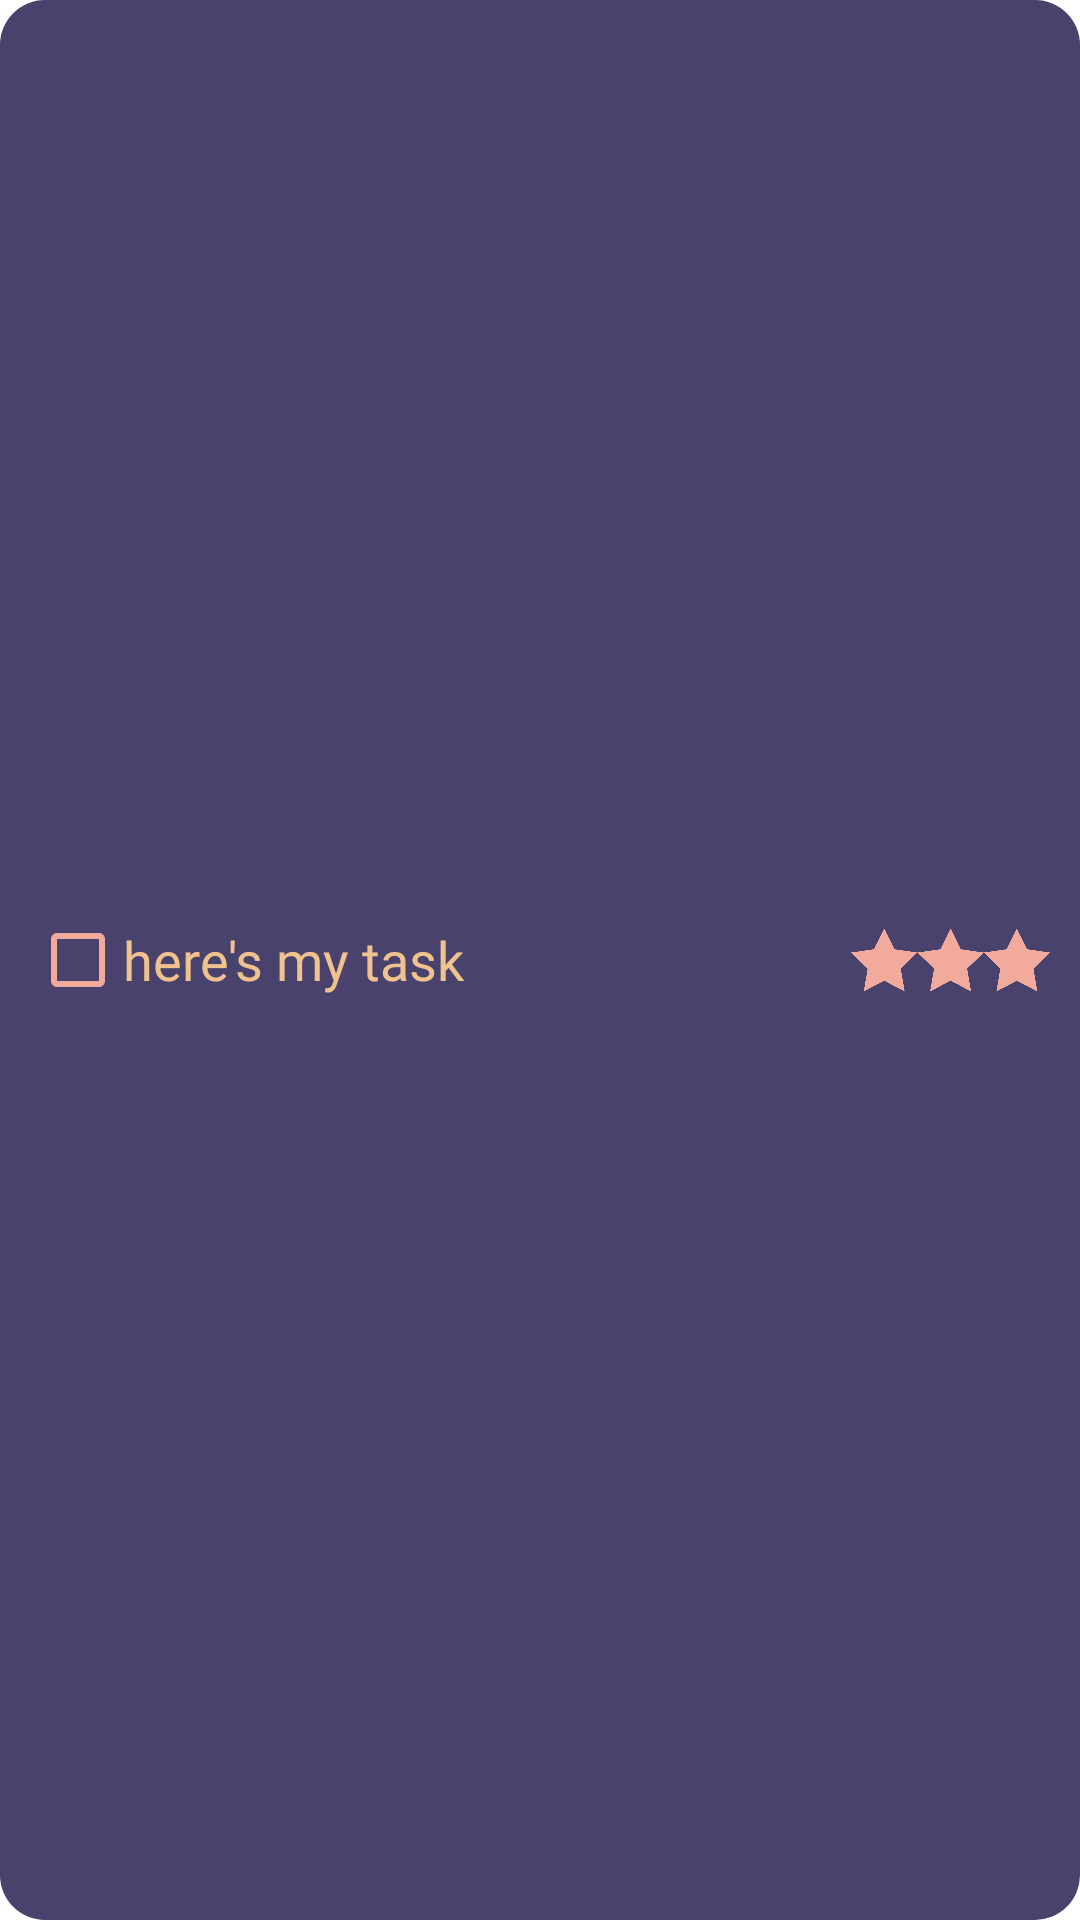

Screen size 1080×1920. Icon name, then its center in pixels as (x=x, y=y):
highimp: (x=950, y=960)
